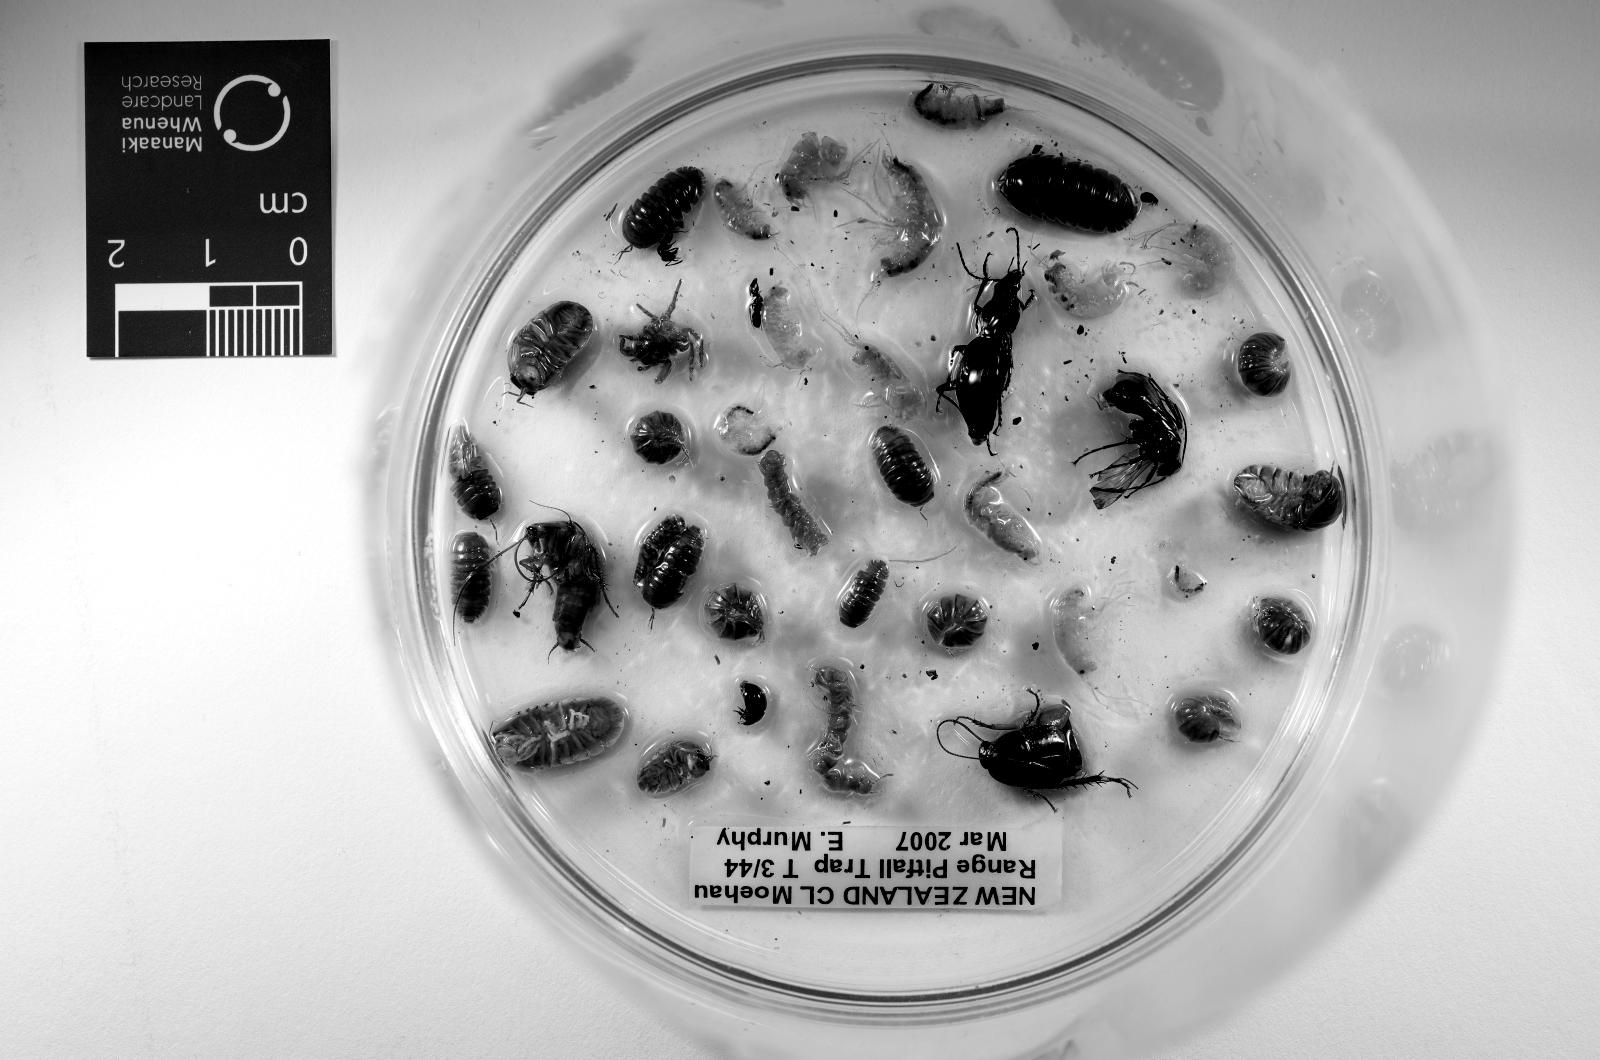acari: (1141, 193, 1159, 205)
amphipoda: (856, 153, 944, 283), (825, 317, 925, 422), (966, 468, 1041, 565), (778, 134, 850, 208), (909, 80, 1006, 130), (763, 283, 818, 369), (1044, 260, 1125, 317), (1050, 587, 1100, 674), (1181, 224, 1235, 298), (713, 177, 772, 239), (721, 422, 778, 457), (715, 403, 757, 441), (1168, 562, 1206, 600)
araneae: (618, 283, 704, 386)
blattodea: (938, 692, 1134, 799), (510, 518, 618, 652)
carabidae: (934, 230, 1031, 457)
coleoptera: (738, 680, 765, 726)
diplopoda: (759, 451, 831, 556), (812, 667, 872, 791)
formicidae: (750, 279, 763, 329)
hymenoptera: (1078, 373, 1187, 509)
isopoda: (997, 149, 1141, 233), (494, 699, 626, 774), (510, 302, 594, 394), (1235, 466, 1343, 531), (622, 168, 706, 248), (641, 525, 706, 608), (872, 426, 934, 506), (451, 531, 494, 625), (637, 742, 710, 795), (925, 593, 987, 649), (1237, 332, 1290, 397), (837, 558, 887, 627), (1256, 600, 1313, 655), (706, 584, 763, 640), (1175, 696, 1241, 742), (631, 413, 685, 466)
